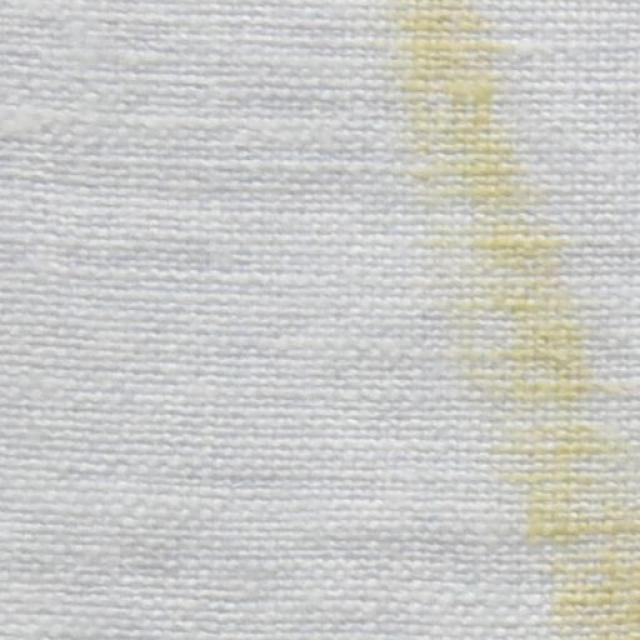Stain: (370, 0, 639, 639)
